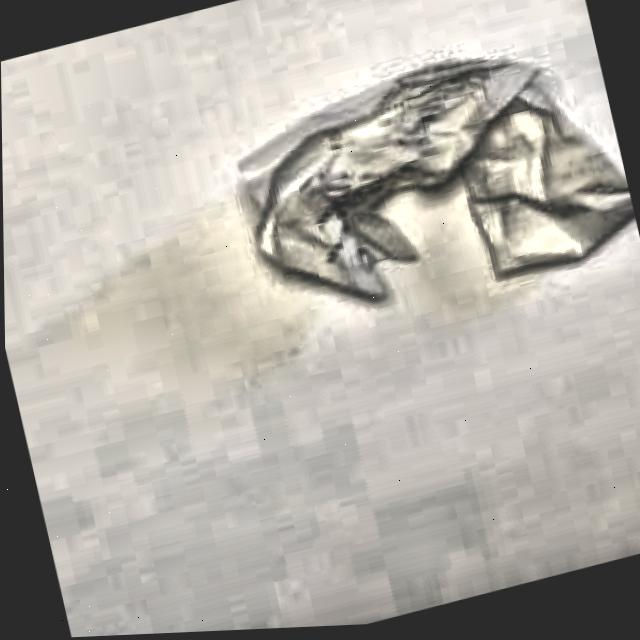paper: (218, 24, 640, 342)
